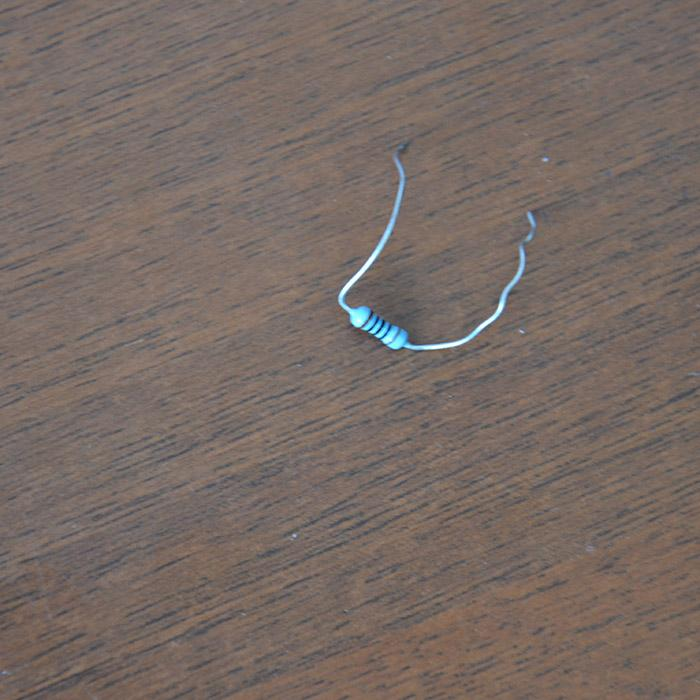resistor: (347, 304, 407, 350)
